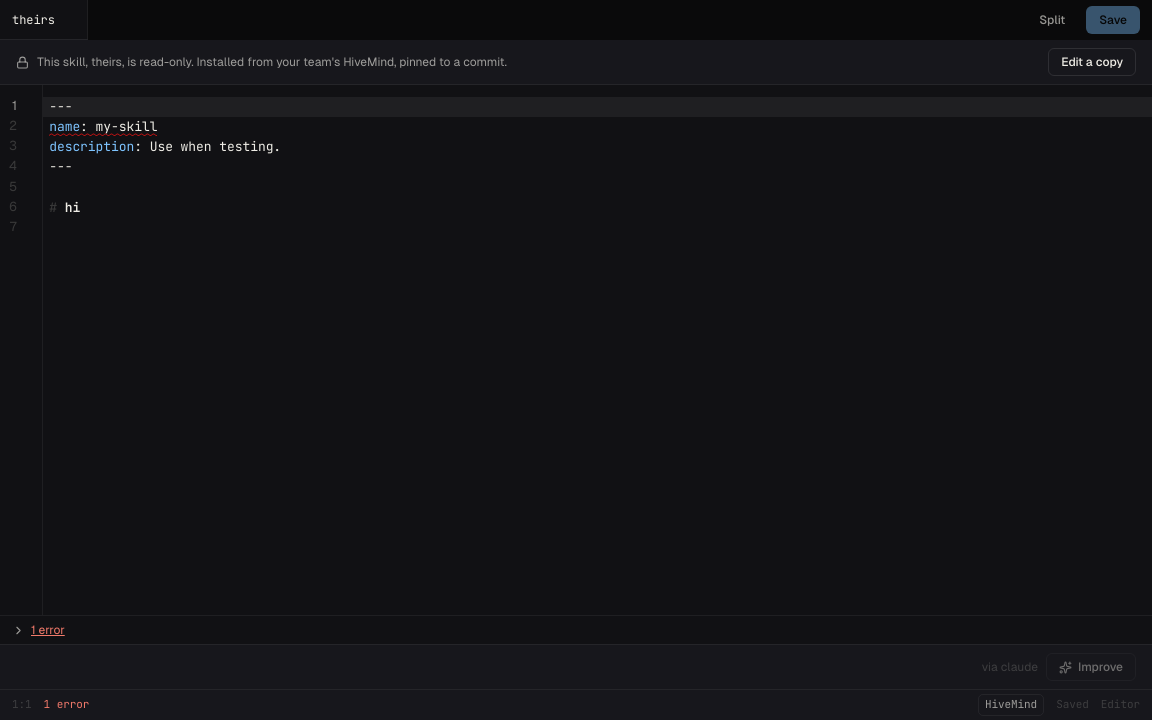
Test: Edit a copy › forks a skill under the name the user picks and swaps the tab to it
Click the button "Edit a copy" at (1092, 62), box [1048,48,1136,76]
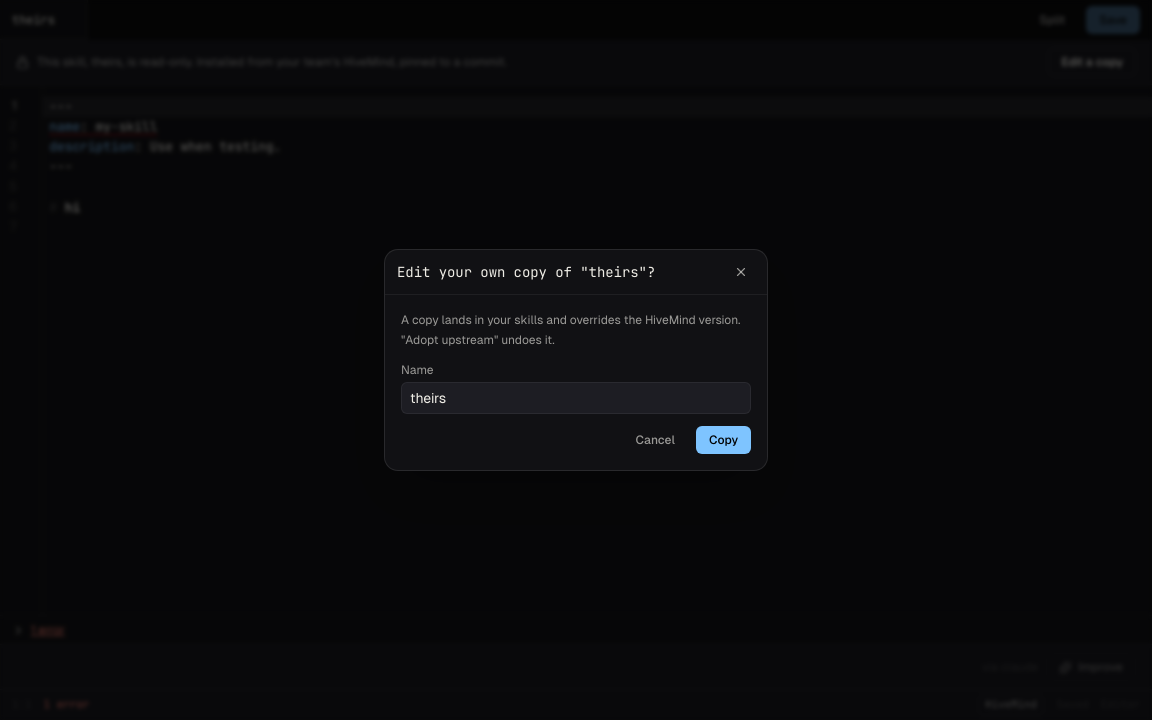
Replace the text in the field labelled "Name" with "my-copy" at (576, 398), box [401,382,751,414]
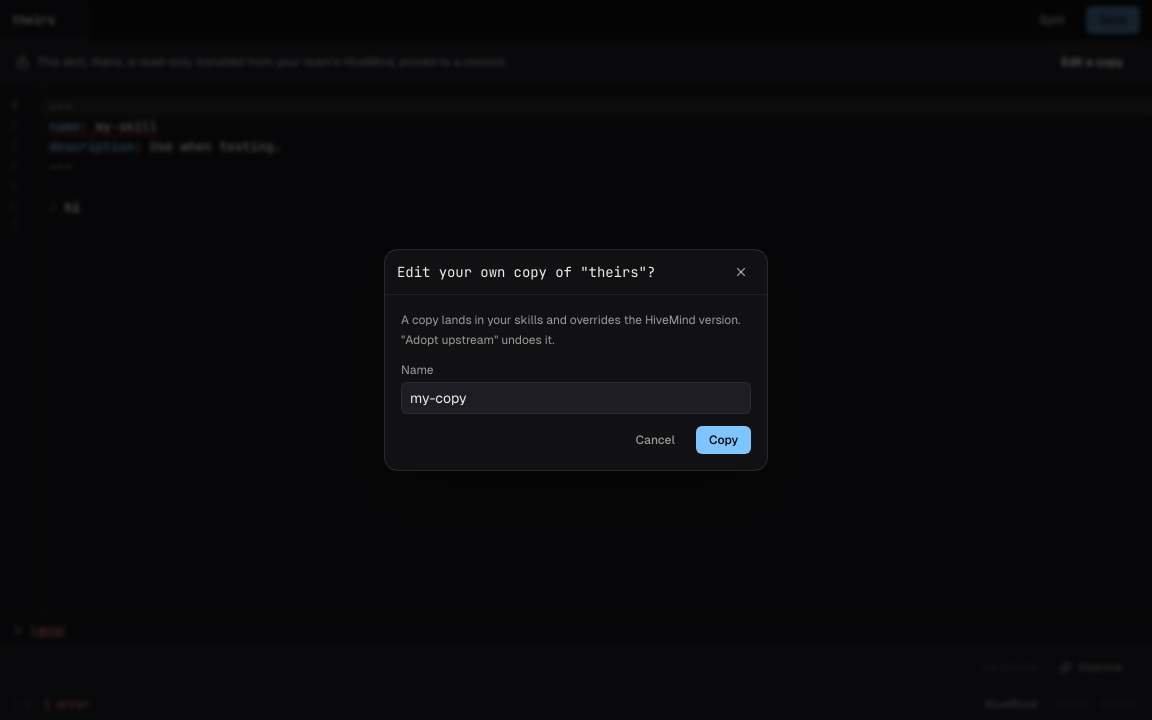
Click the button "Copy" at (724, 440), box [696,426,751,454]
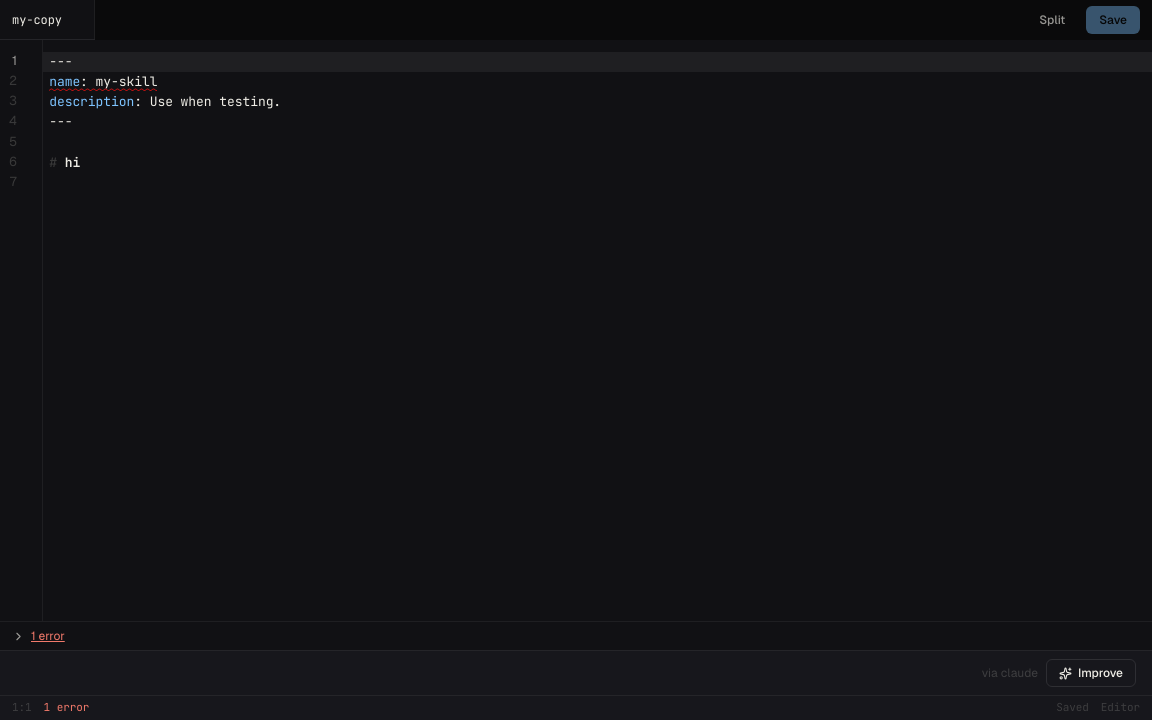
Expected: the tab "my-copy" is shown, [0,0,95,39]
